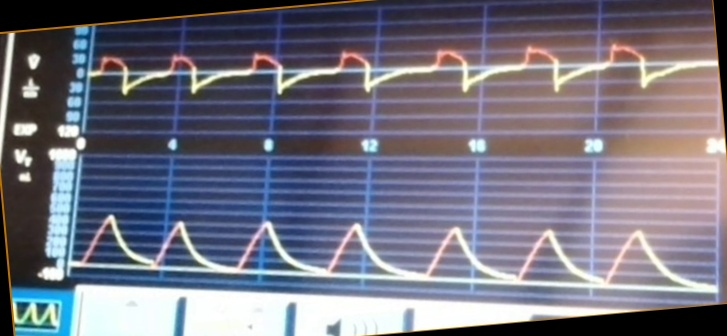Normal Flow: (93, 26, 714, 118)
Normal Volume: (77, 194, 715, 287)
